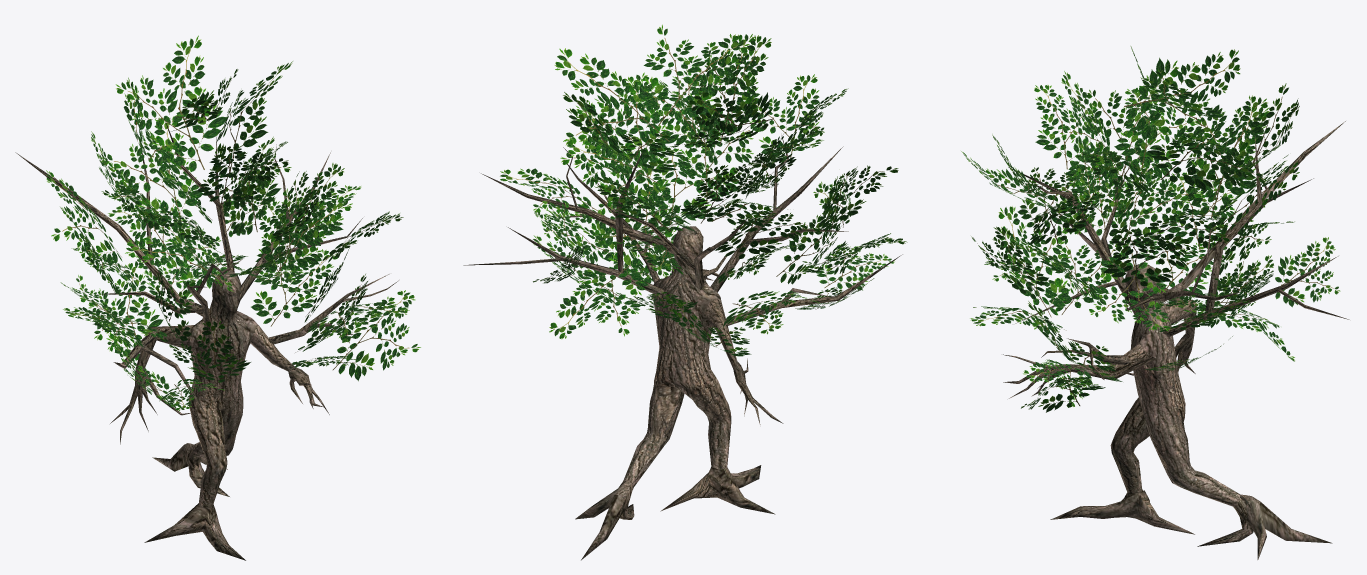
The model's file is tree_hitogata1_3.fbx.
The picture shows the model from 3 angles, left to right: view 1: azimuth 30°, elevation 25°; view 2: azimuth 150°, elevation 25°; view 3: azimuth 270°, elevation 25°; orthographic projection. The views are drawn at different scales.
Visible parts, largest first — view 1: tree_hitogata1_3; view 2: tree_hitogata1_3; view 3: tree_hitogata1_3.
Boxes of the visible parts, left/top/right/bottom form: tree_hitogata1_3: left=15, top=35, right=420, bottom=560; tree_hitogata1_3: left=463, top=24, right=907, bottom=560; tree_hitogata1_3: left=961, top=46, right=1349, bottom=559.
Size of the model in its own units: 13.29 by 15.89 by 11.79.
